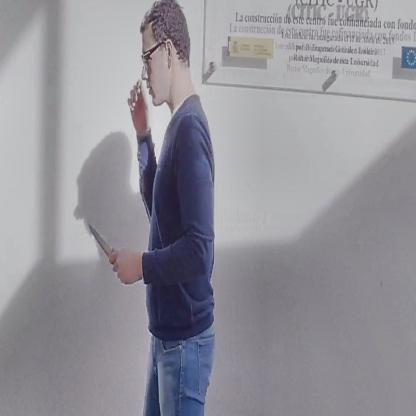knife: (85, 215, 126, 282)
